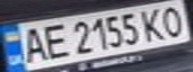1: (87, 15, 109, 51)
2: (69, 17, 93, 55)
5: (118, 10, 145, 46), (103, 12, 127, 48)
A: (15, 25, 51, 64)
E: (36, 20, 72, 61)
K: (136, 6, 169, 42)
O: (154, 2, 190, 38)
